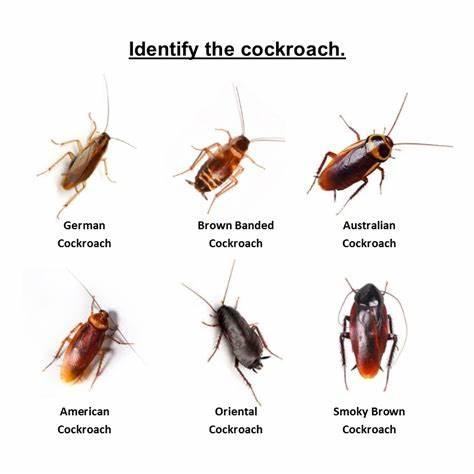cockroach: (339, 274, 401, 399), (311, 130, 396, 194), (210, 301, 272, 377), (58, 308, 114, 388), (190, 132, 252, 202), (60, 128, 112, 192)
